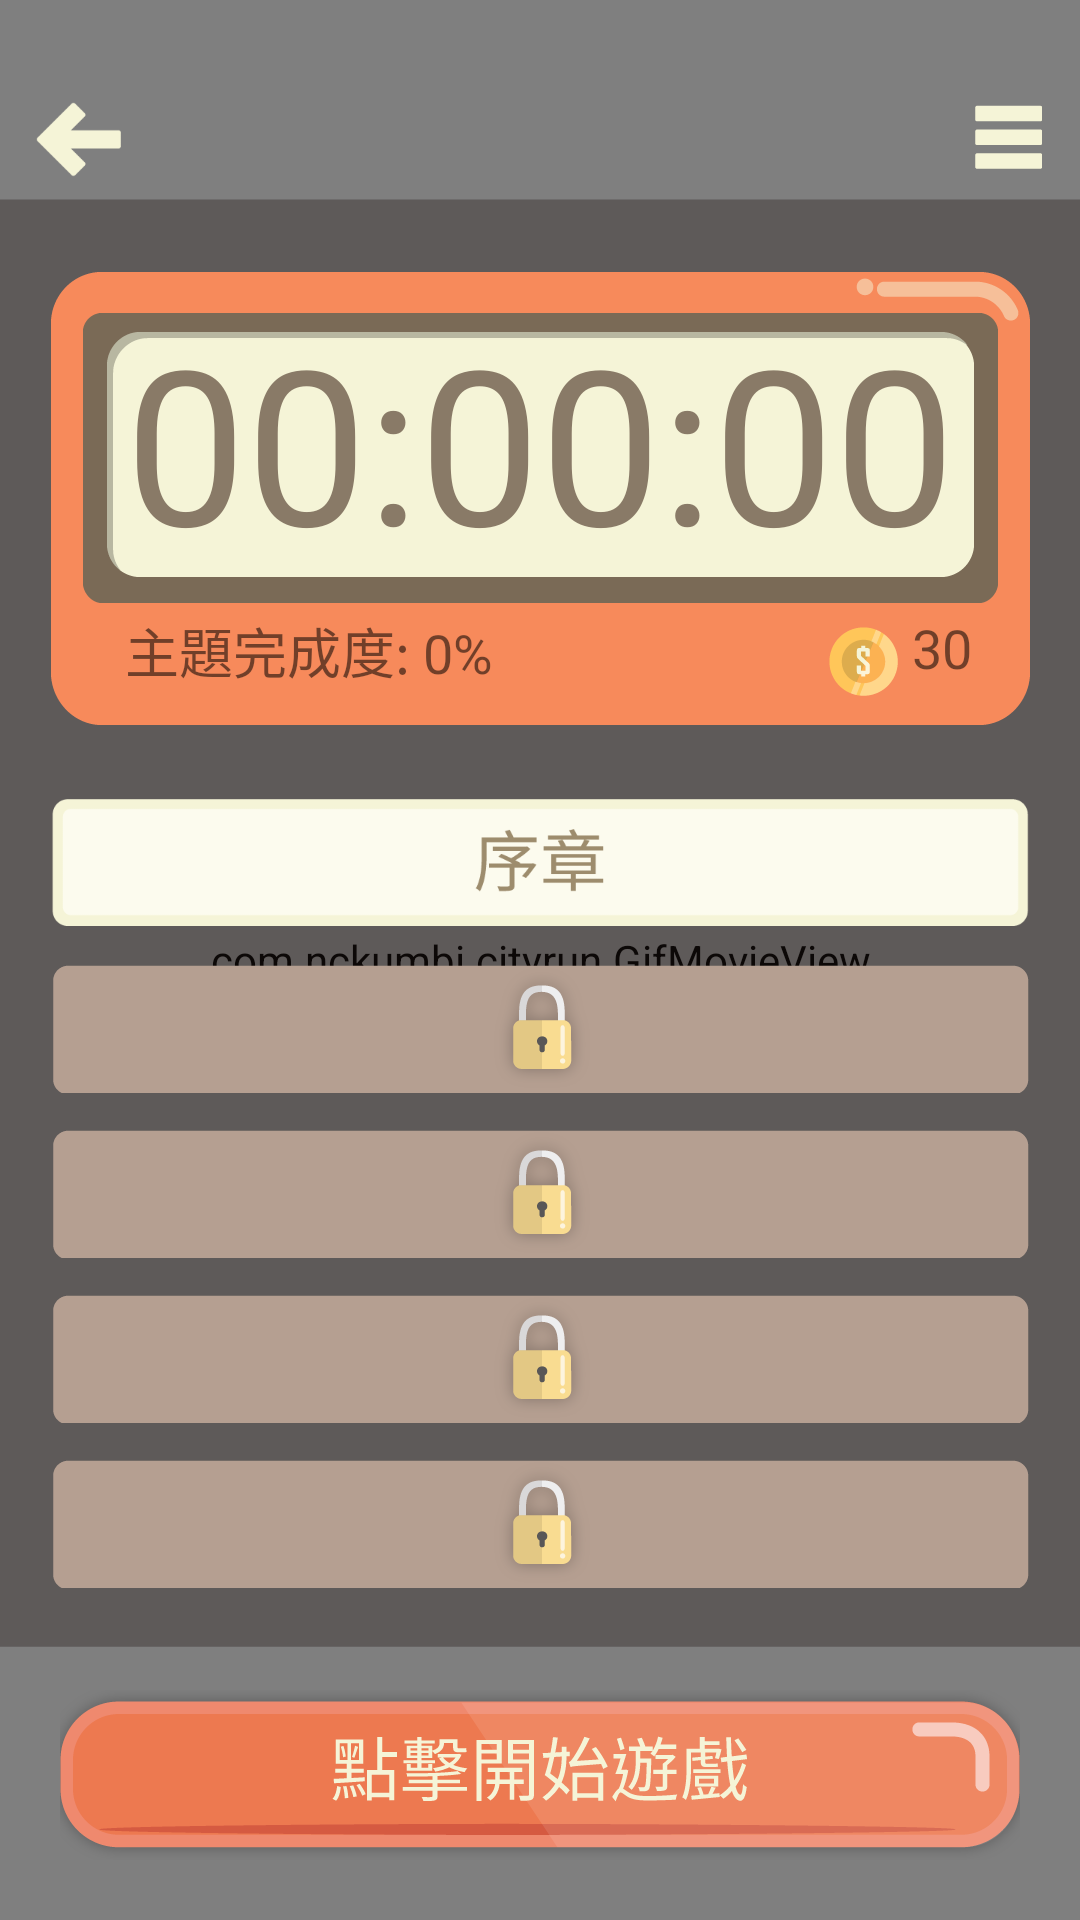

Screen size 1080w x 1920h. Icon name, then its box in pixels as (x1, y1, x2, y2):
all back arrow: (37, 103, 121, 176)
all menu: (975, 105, 1042, 169)
